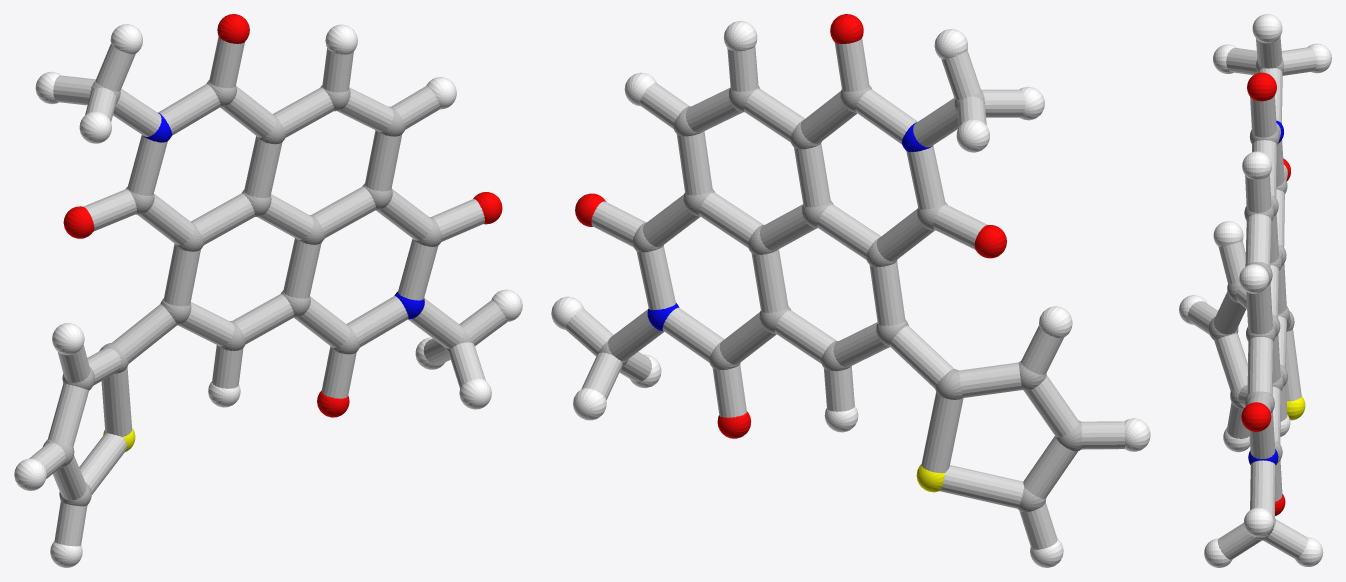
File: Dimethyl_Naphthalene_Dicarboximide_Phi_30_Theta_340_Thiophene.glb
3 renders of one model, left to right at view 1: azimuth 30°, elevation 25°; view 2: azimuth 150°, elevation 25°; view 3: azimuth 270°, elevation 25°, orthographic. The views are drawn at different scales.
Parts seen in each view (by area): view 1: grp14119, grp7241, grp1, grp12309, grp11585; view 2: grp14119, grp7241, grp1, grp12309, grp11585; view 3: grp14119, grp7241, grp1, grp12309, grp13757, grp11585.
Boxes of the visible parts, left/top/right/bottom form: grp14119: left=29, top=36, right=507, bottom=546; grp7241: left=14, top=24, right=522, bottom=567; grp1: left=43, top=80, right=472, bottom=506; grp12309: left=63, top=14, right=502, bottom=417; grp11585: left=143, top=112, right=424, bottom=319; grp14119: left=565, top=38, right=1125, bottom=549; grp7241: left=551, top=21, right=1150, bottom=567; grp1: left=598, top=85, right=1081, bottom=511; grp12309: left=575, top=14, right=1006, bottom=438; grp11585: left=647, top=122, right=932, bottom=330; grp14119: left=1188, top=36, right=1316, bottom=559; grp7241: left=1179, top=14, right=1331, bottom=567; grp1: left=1208, top=58, right=1294, bottom=540; grp12309: left=1241, top=72, right=1290, bottom=515; grp13757: left=1286, top=396, right=1305, bottom=420; grp11585: left=1248, top=120, right=1283, bottom=465.
Bounding box in the file's own units: 11.48 × 10.38 × 3.06.
